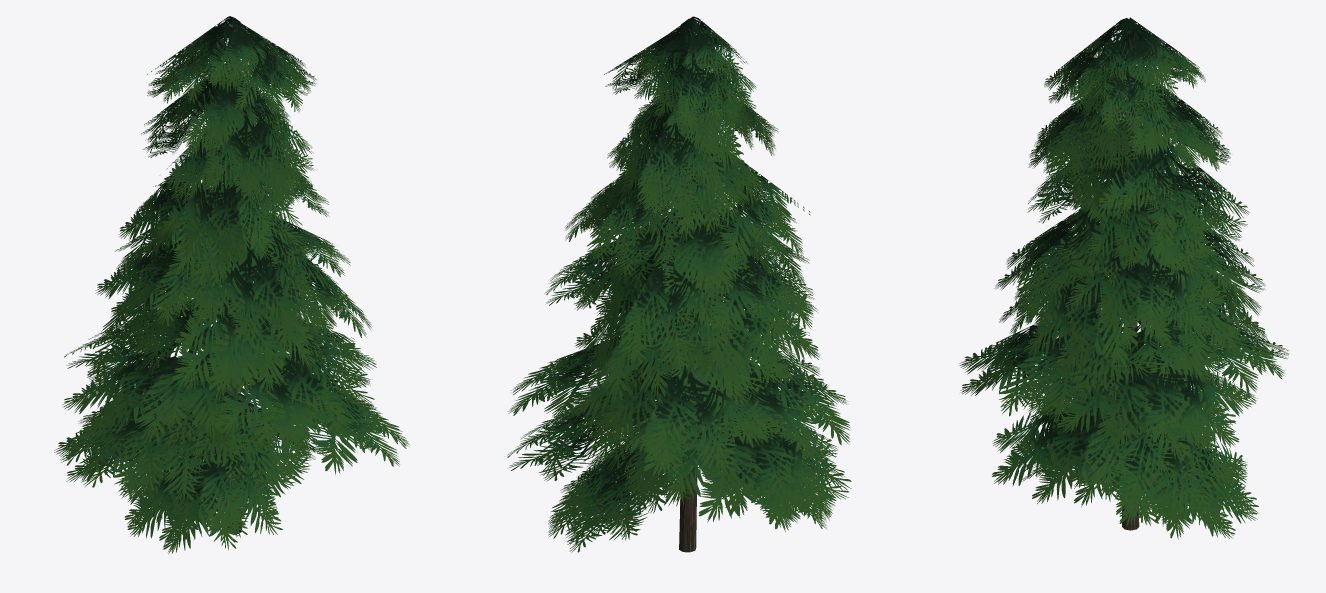
Rendered from pinetree01.fbx.
3 views of the same model, side by side, from view 1: azimuth 30°, elevation 25°; view 2: azimuth 150°, elevation 25°; view 3: azimuth 270°, elevation 25° (orthographic). The views are drawn at different scales.
Visible parts, largest first — view 1: pine_tree; view 2: pine_tree; view 3: pine_tree.
Boxes of the visible parts, x1,y1,x2,y2 form: pine_tree: (54, 16, 409, 554); pine_tree: (507, 16, 851, 552); pine_tree: (959, 17, 1289, 539).
Size of the model in its own units: 419 by 581 by 402.
2 materials, 2 textured.
